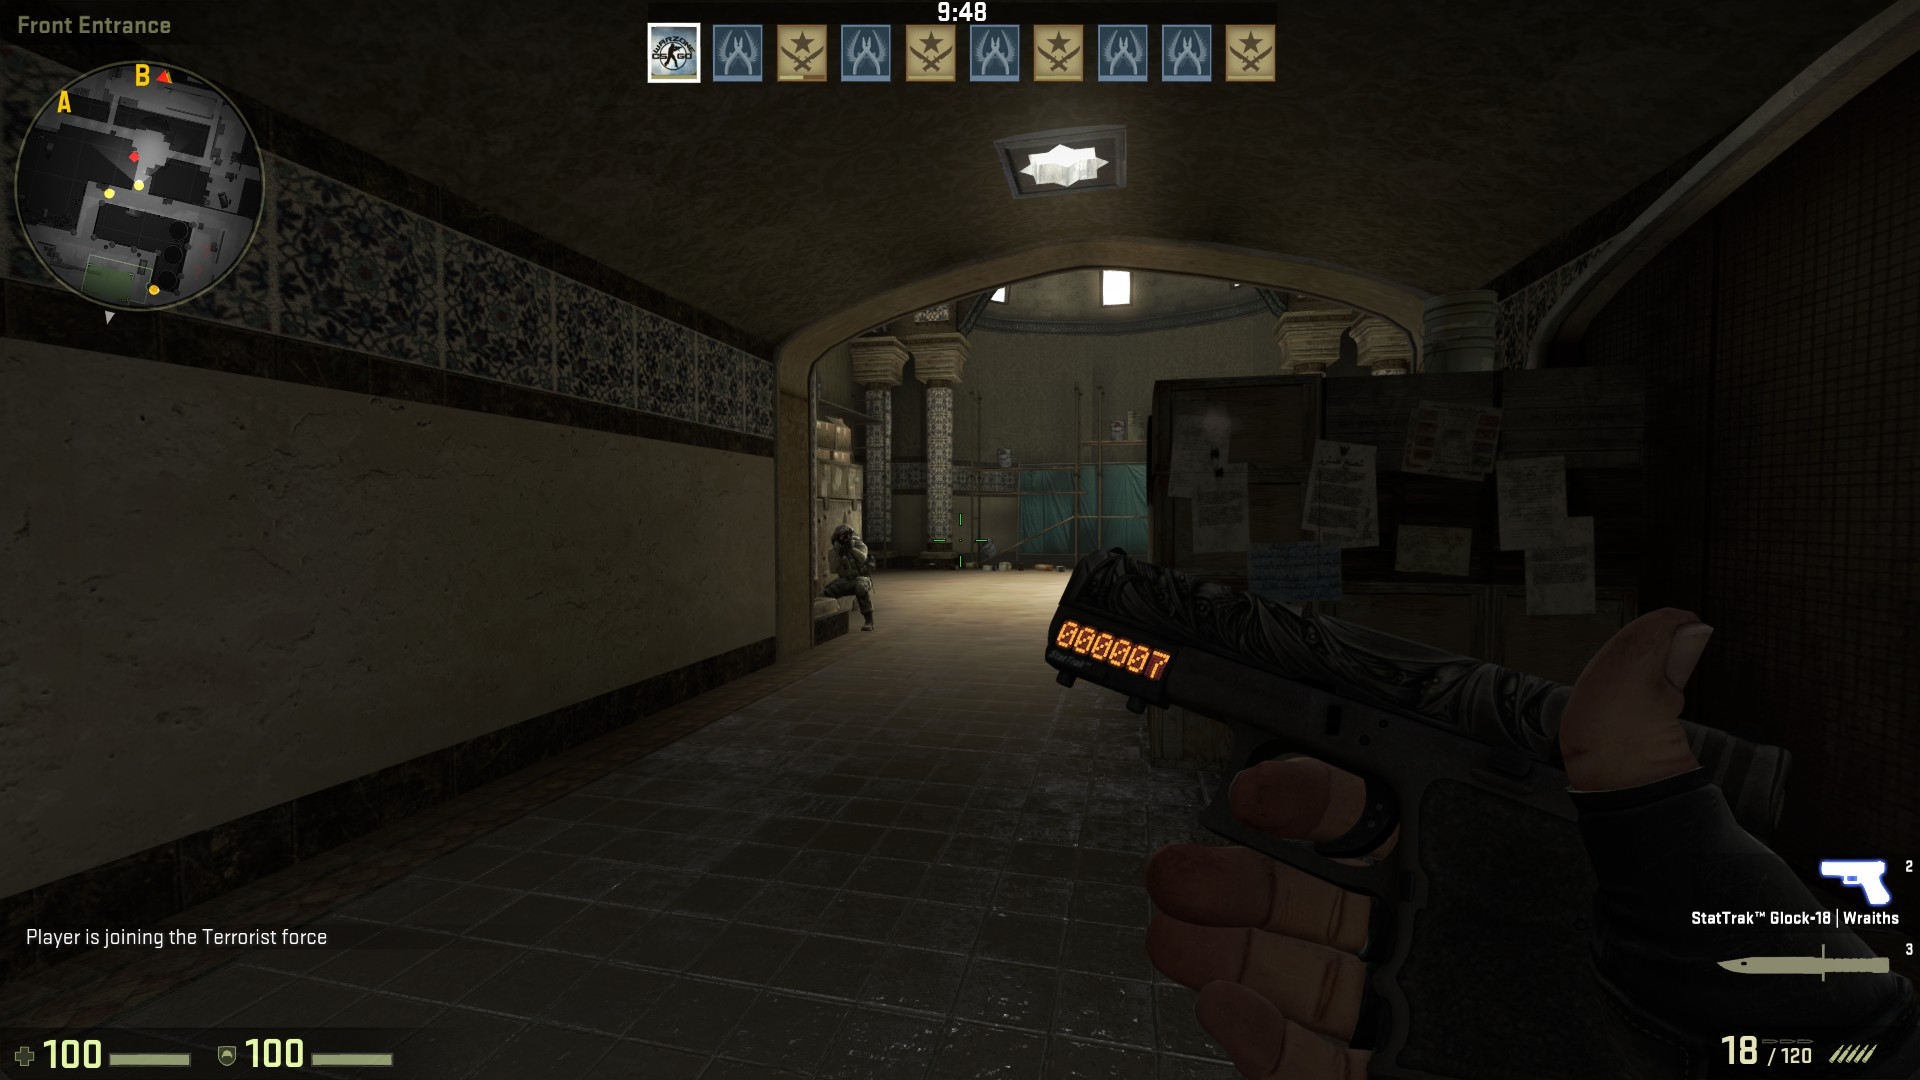c: (822, 521, 877, 632)
ch: (832, 522, 853, 549)
